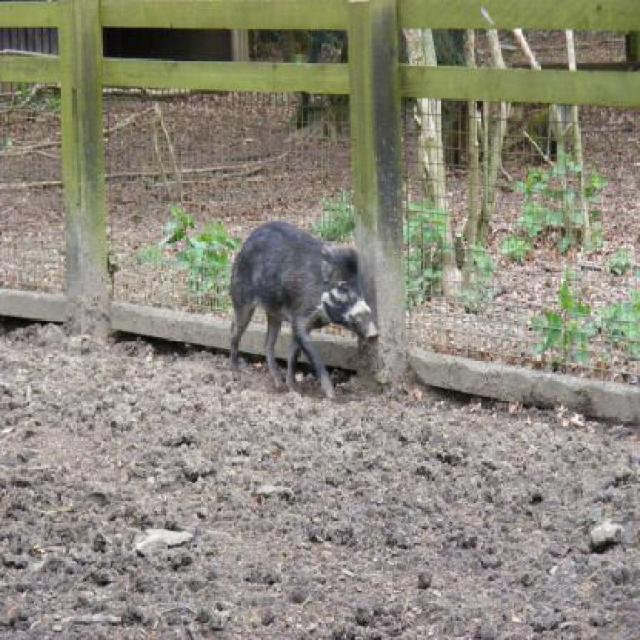pig: (231, 220, 379, 400)
